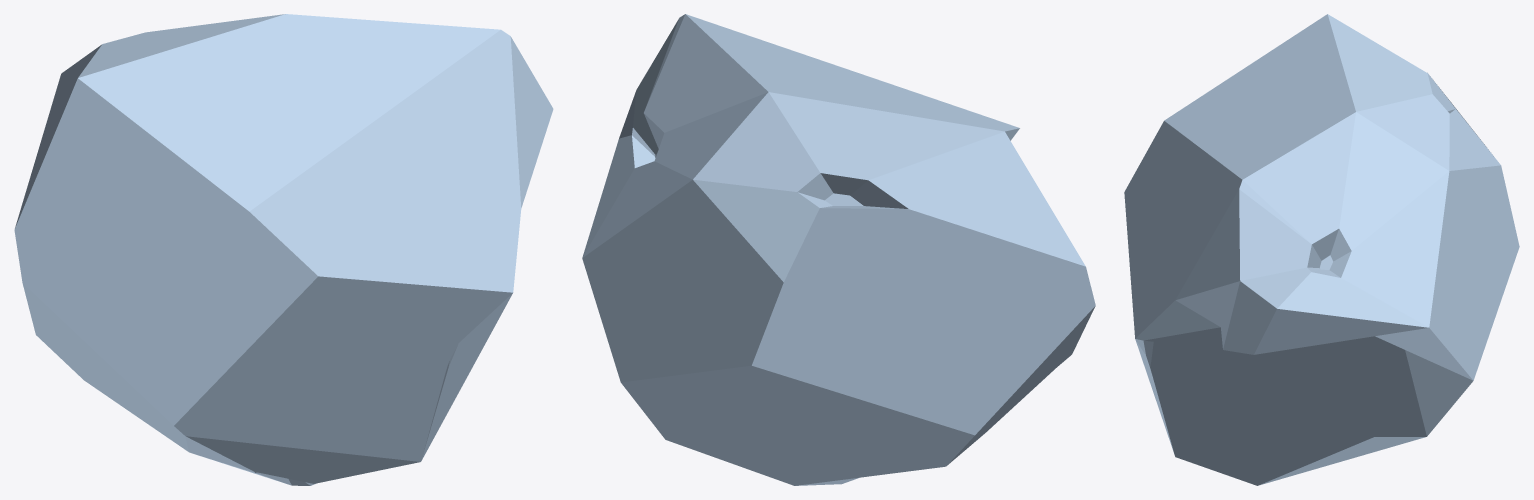
Rendered from Asteroid1.fbx.
The picture shows the model from 3 angles, left to right: view 1: azimuth 30°, elevation 25°; view 2: azimuth 150°, elevation 25°; view 3: azimuth 270°, elevation 25°; orthographic projection. The views are drawn at different scales.
Visible parts, largest first — view 1: asteroid.002; view 2: asteroid.002; view 3: asteroid.002.
Boxes of the visible parts, x1,y1,x2,y2 form: asteroid.002: [14, 14, 553, 485]; asteroid.002: [582, 14, 1095, 485]; asteroid.002: [1124, 14, 1519, 485].
Bounding box in the file's own units: 279 × 228 × 219.
